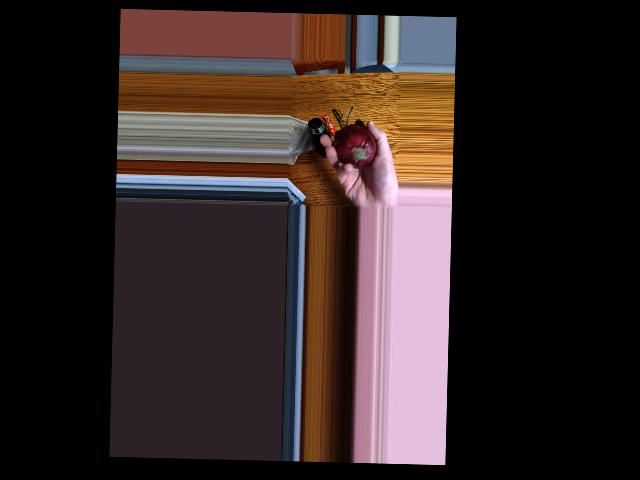onion: (340, 126, 378, 173)
